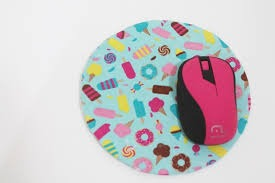mouse: (178, 57, 239, 144)
